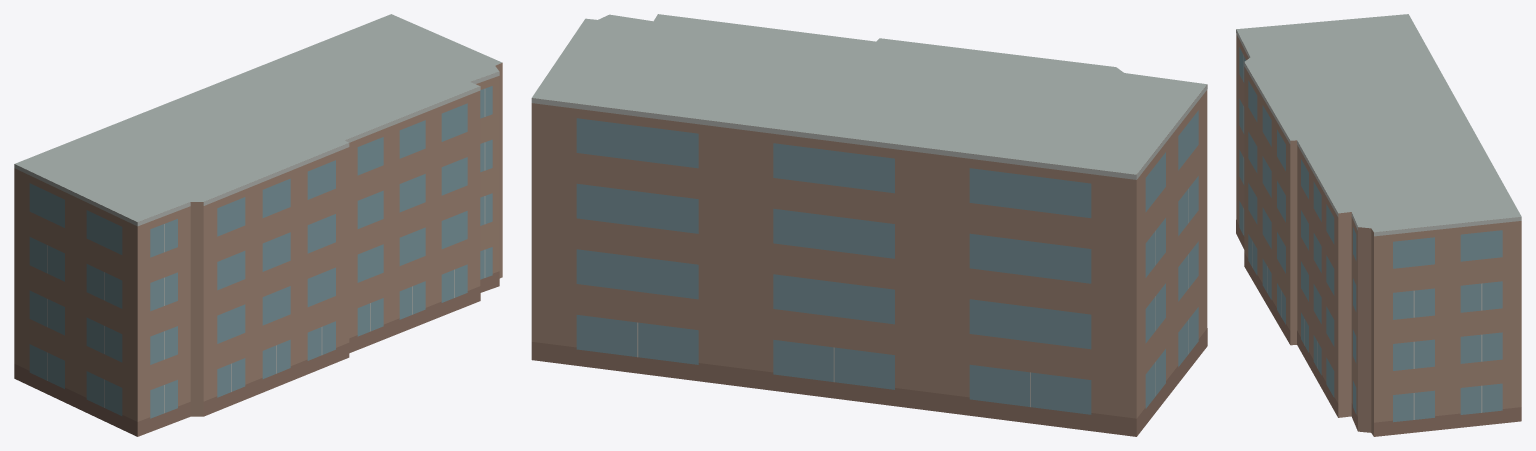
The model's file is survey-upis-32704218.glb.
3 renders of one model, left to right at view 1: azimuth 30°, elevation 25°; view 2: azimuth 150°, elevation 25°; view 3: azimuth 270°, elevation 25°, orthographic. The views are drawn at different scales.
Visible parts, largest first — view 1: survey-upis-32704218.tmp; view 2: survey-upis-32704218.tmp; view 3: survey-upis-32704218.tmp.
Part boxes in pixels (x1=…): survey-upis-32704218.tmp: x1=14, y1=14, x2=502, y2=436; survey-upis-32704218.tmp: x1=531, y1=14, x2=1207, y2=436; survey-upis-32704218.tmp: x1=1236, y1=14, x2=1521, y2=436.
Size of the model in its own units: 28.41 by 12.4 by 15.7.
